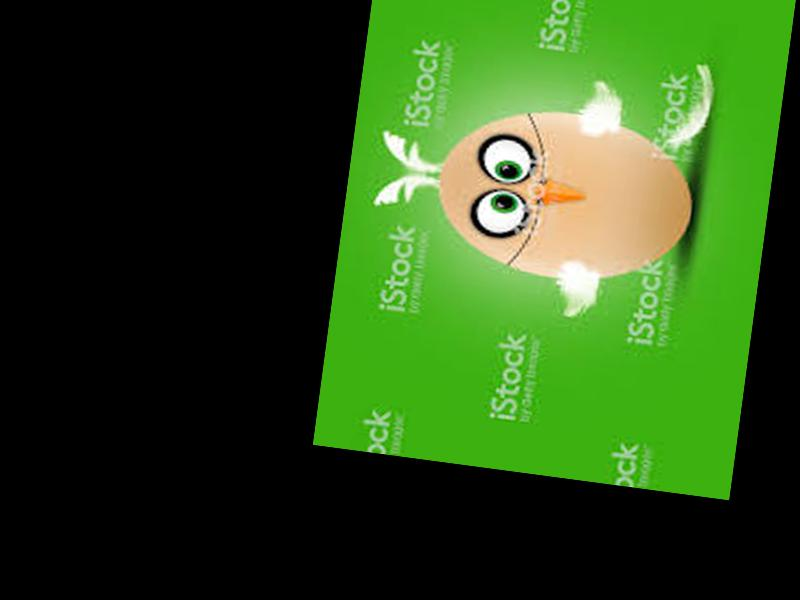Eggs: (428, 97, 704, 292)
